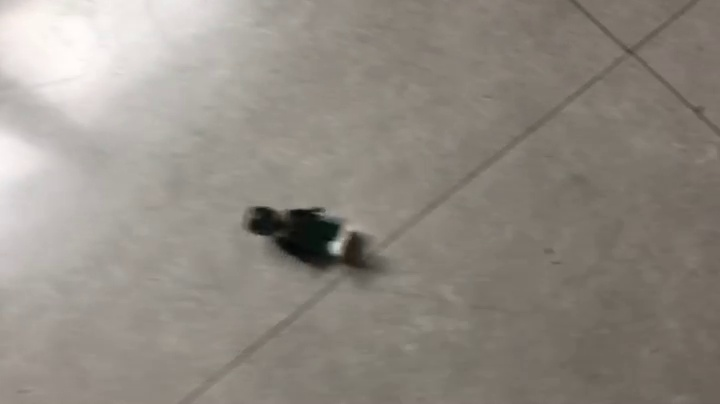people: (243, 205, 366, 268)
